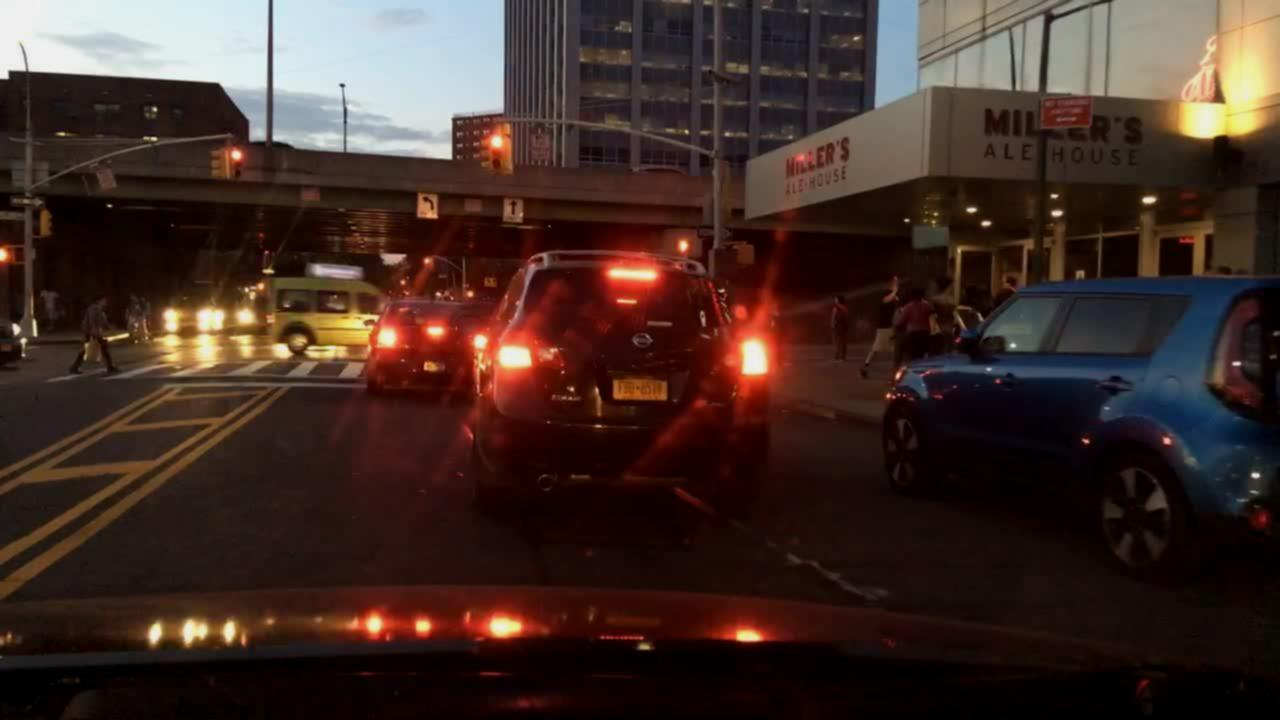Nissan: (628, 327, 657, 354)
